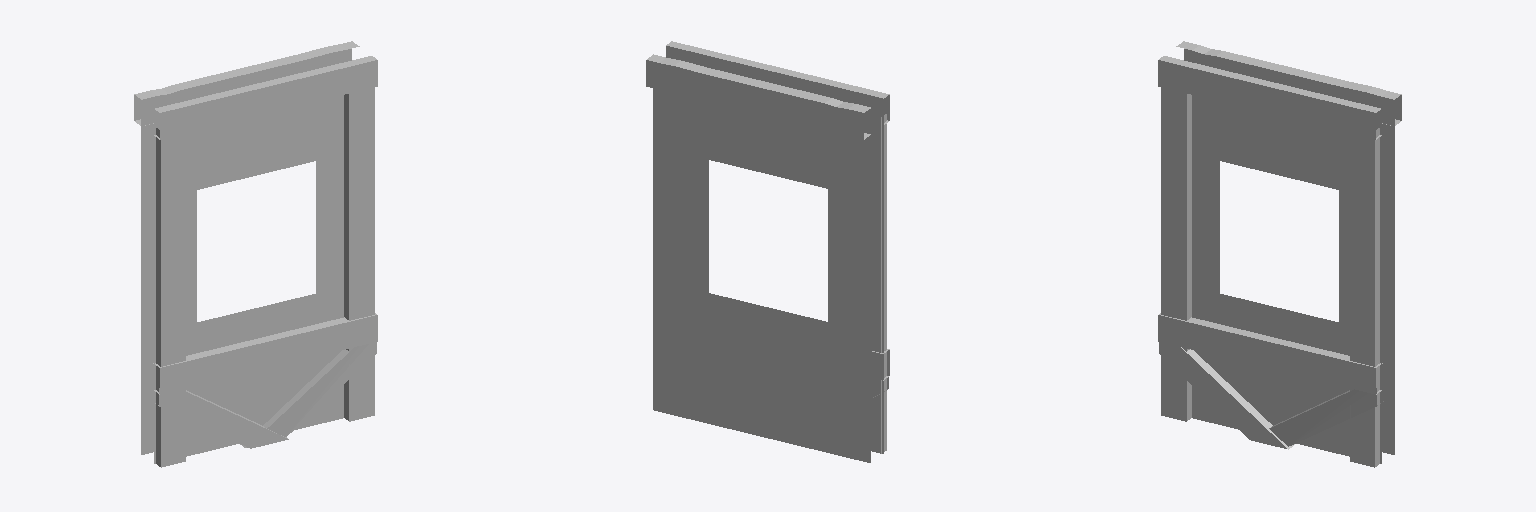
Rendered from Wall_Plaster_Window_Wide_Flat2.obj.
3 renders of one model, left to right at view 1: azimuth 30°, elevation 25°; view 2: azimuth 150°, elevation 25°; view 3: azimuth 330°, elevation 25°, orthographic.
Parts seen in each view (by area): view 1: Wall_Plaster_Window_Wide_Flat2; view 2: Wall_Plaster_Window_Wide_Flat2; view 3: Wall_Plaster_Window_Wide_Flat2.
Part boxes in pixels (bbox=[...]): Wall_Plaster_Window_Wide_Flat2: bbox=[134, 41, 377, 467]; Wall_Plaster_Window_Wide_Flat2: bbox=[646, 41, 889, 462]; Wall_Plaster_Window_Wide_Flat2: bbox=[1158, 41, 1401, 467].
Bounding box in the file's own units: 2 × 3.15 × 0.4065.